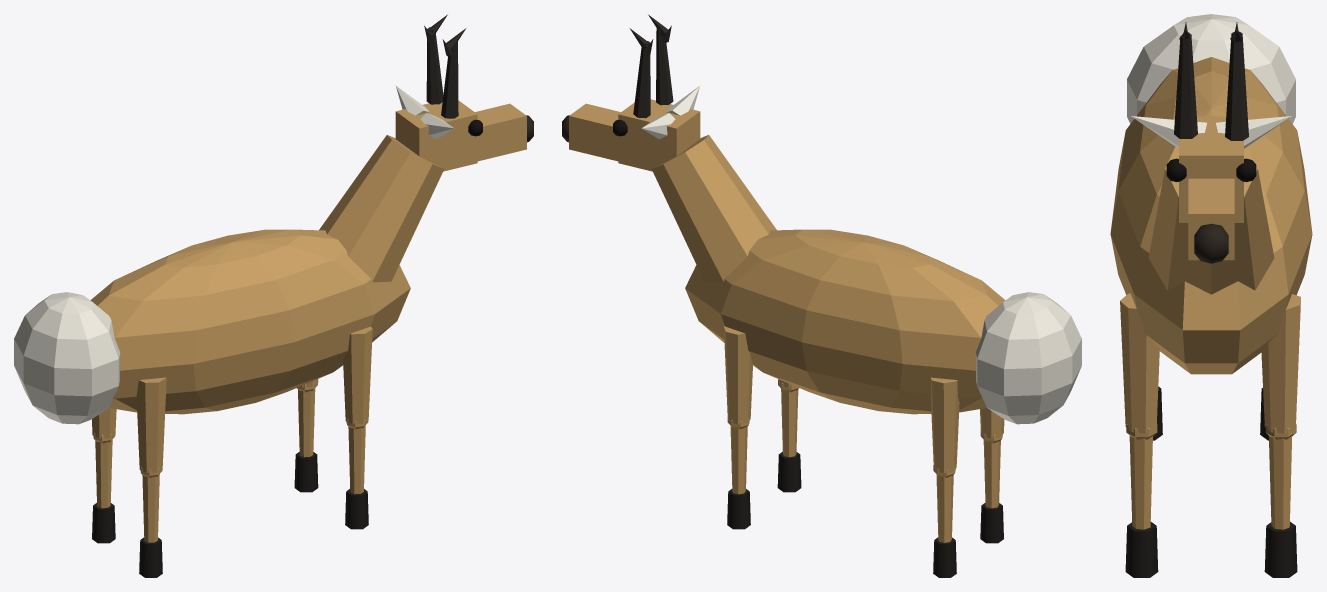
The model's file is pronghorn.glb.
3 views of the same model, side by side, from view 1: azimuth 30°, elevation 25°; view 2: azimuth 150°, elevation 25°; view 3: azimuth 270°, elevation 25° (orthographic). The views are drawn at different scales.
Visible parts, largest first — view 1: pronghorn, head, leg_br, leg_fr, leg_bl, leg_fl, horn_r, horn_l; view 2: pronghorn, head, leg_bl, leg_fl, leg_br, leg_fr, horn_r, horn_l; view 3: pronghorn, head, leg_fr, leg_fl, horn_l, horn_r, ear_r, ear_l, leg_br.
Part boxes in pixels (bbox=[...]): pronghorn: bbox=[14, 135, 444, 424]; head: bbox=[395, 100, 533, 171]; leg_br: bbox=[136, 377, 166, 577]; leg_fr: bbox=[343, 326, 372, 529]; leg_bl: bbox=[92, 408, 116, 543]; leg_fl: bbox=[294, 379, 318, 492]; horn_r: bbox=[441, 28, 466, 118]; horn_l: bbox=[424, 14, 447, 104]; pronghorn: bbox=[651, 135, 1081, 424]; head: bbox=[562, 99, 700, 171]; leg_bl: bbox=[930, 377, 959, 577]; leg_fl: bbox=[723, 326, 752, 529]; leg_br: bbox=[980, 408, 1004, 543]; leg_fr: bbox=[777, 379, 801, 492]; horn_r: bbox=[648, 14, 673, 105]; horn_l: bbox=[629, 28, 653, 118]; pronghorn: bbox=[1110, 14, 1312, 374]; head: bbox=[1166, 116, 1256, 263]; leg_fr: bbox=[1120, 293, 1159, 577]; leg_fl: bbox=[1261, 294, 1300, 577]; horn_l: bbox=[1225, 22, 1248, 140]; horn_r: bbox=[1174, 22, 1197, 138]; ear_r: bbox=[1131, 116, 1206, 148]; ear_l: bbox=[1216, 116, 1291, 148]; leg_br: bbox=[1153, 386, 1162, 440].
Size of the model in its own units: 1.75 by 1.49 by 0.4355.
